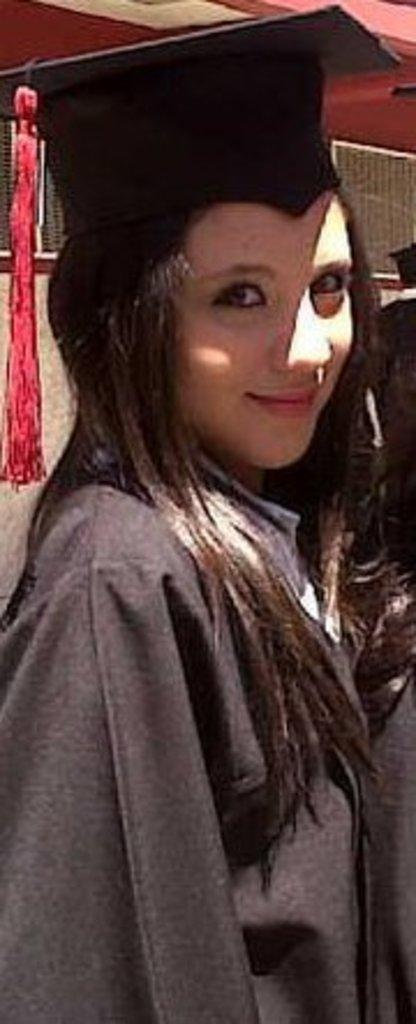Hat: (0, 4, 399, 489)
